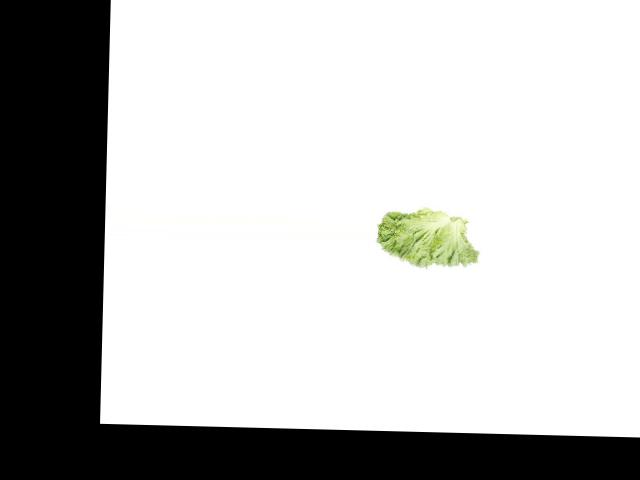lettuce: (374, 202, 479, 277)
